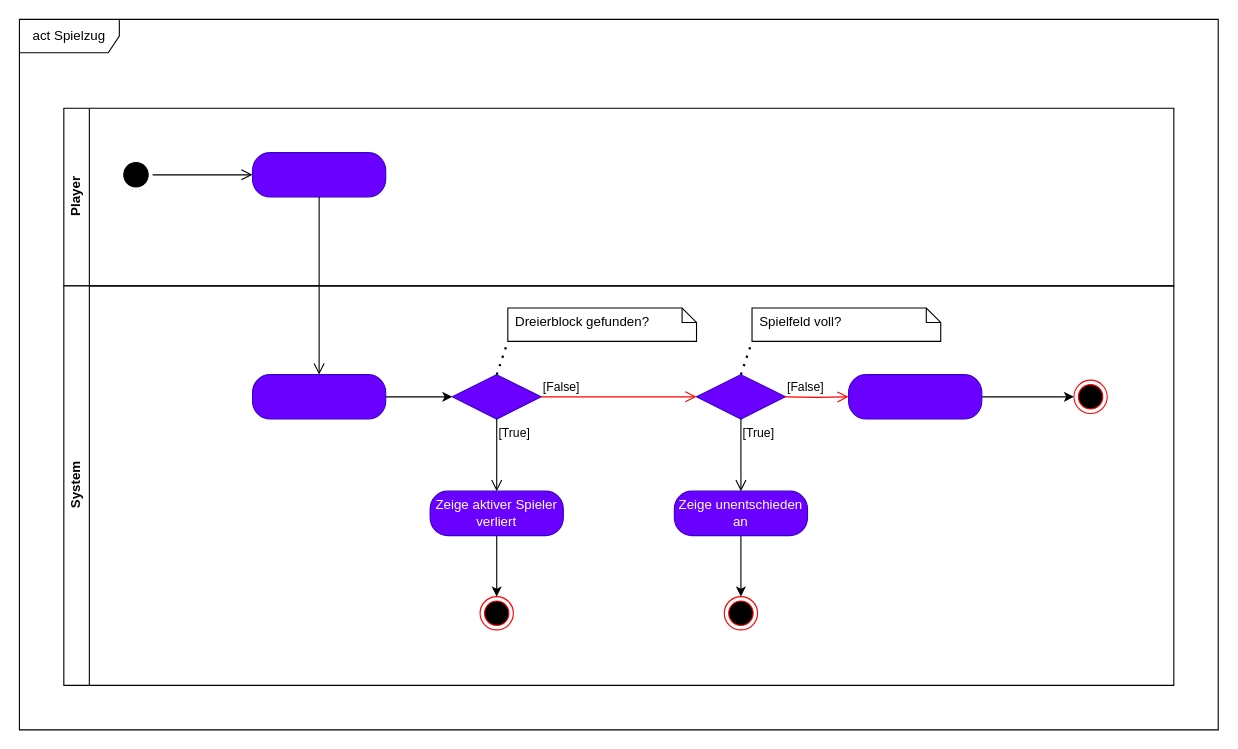
Image size: 1238x749. Some labels were removed from this diagram. Here are the shapes that lost their labels. From the top down, the centre of each, then its label:
the point at 318,174: Spieler setzt sein Zeichen in das Feld
the point at 318,396: System überprüft Regeln (Algorithm)
the point at 914,396: aktiver Spieler auf anderen setzen
